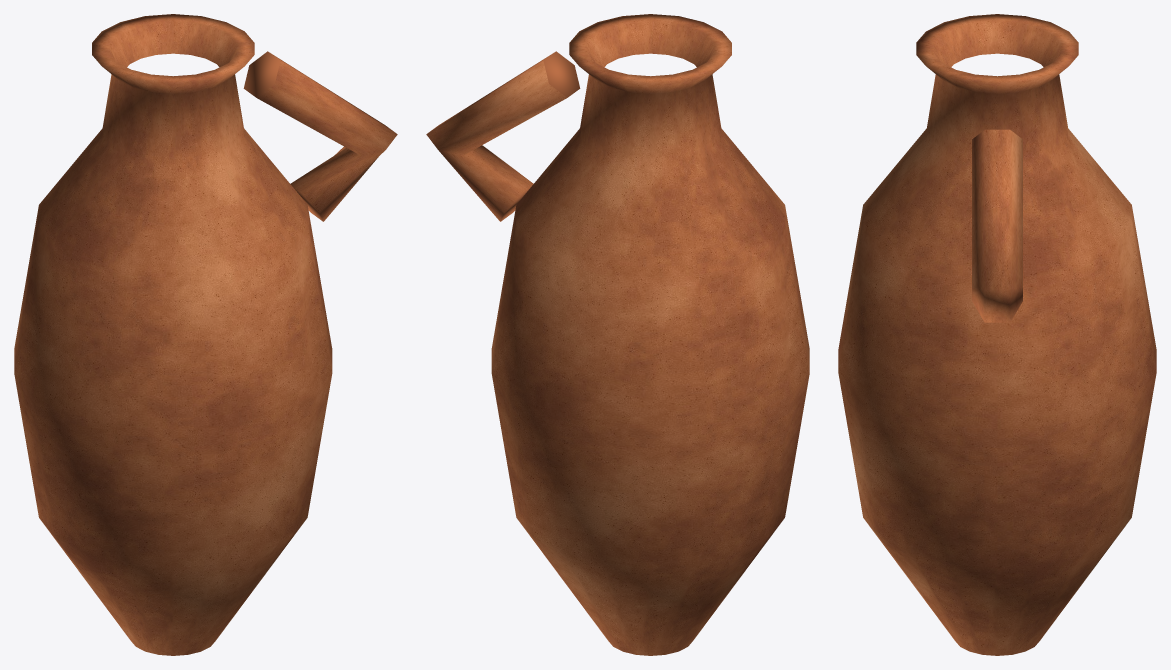
Rendered from jug.glb.
3 renders of one model, left to right at view 1: azimuth 30°, elevation 25°; view 2: azimuth 150°, elevation 25°; view 3: azimuth 270°, elevation 25°, orthographic.
Visible parts, largest first — view 1: jug; view 2: jug; view 3: jug.
Part boxes in pixels (x1,y1,x2,y2): jug: (14,14,397,655); jug: (426,14,809,655); jug: (838,14,1156,655).
Size of the model in its own units: 0.8061 by 1.3 by 0.6204.
Materials: 1 (1 with a texture image).
